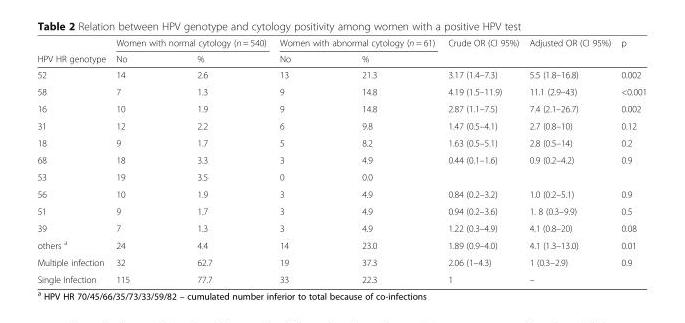table: (36, 37, 646, 284)
table column: (325, 37, 440, 284), (162, 37, 272, 284), (523, 37, 615, 284), (440, 37, 523, 284), (36, 37, 110, 284), (272, 37, 325, 284), (110, 37, 162, 284), (615, 37, 646, 284)
table column header: (36, 37, 646, 66)
table row: (36, 116, 646, 134), (36, 235, 646, 253), (36, 82, 646, 99), (36, 99, 646, 116), (36, 134, 646, 151), (36, 151, 646, 168), (36, 168, 646, 185), (36, 185, 646, 202), (36, 202, 646, 219), (36, 253, 646, 270), (36, 50, 646, 66), (36, 66, 646, 82), (36, 219, 646, 235), (36, 270, 646, 284), (36, 37, 646, 50)
table spanning cell: (523, 37, 615, 66), (440, 37, 523, 66), (272, 37, 440, 50), (36, 37, 110, 66), (110, 37, 272, 50), (615, 37, 646, 66)
